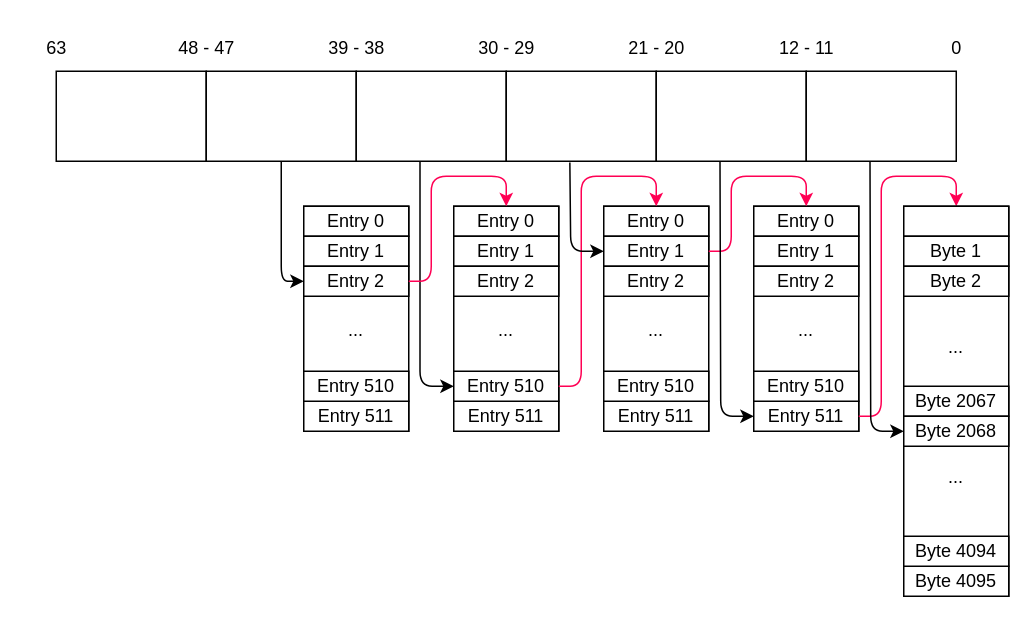
Some shapes in this 1035 by 623 pixel diagram are drawn without their labels. The centre of each missing label's shape, as x and y in pixels:
Byte 0: (955,220)
PGD (Level 4): (280,115)
Physical Page Offset: (880,115)
PMD (Level 2): (580,115)
PT (Level 1): (730,115)
PUD (Level 3): (430,115)
Sign Extend: (130,115)
